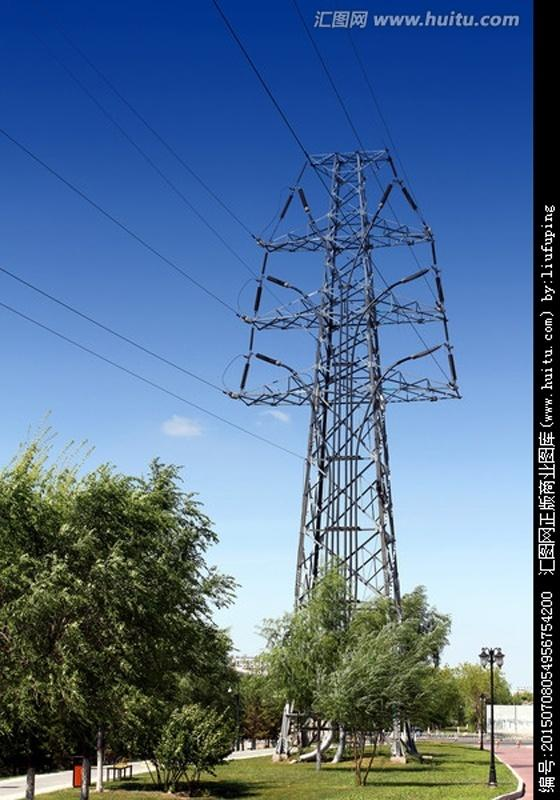power_tower: (262, 136, 434, 582)
